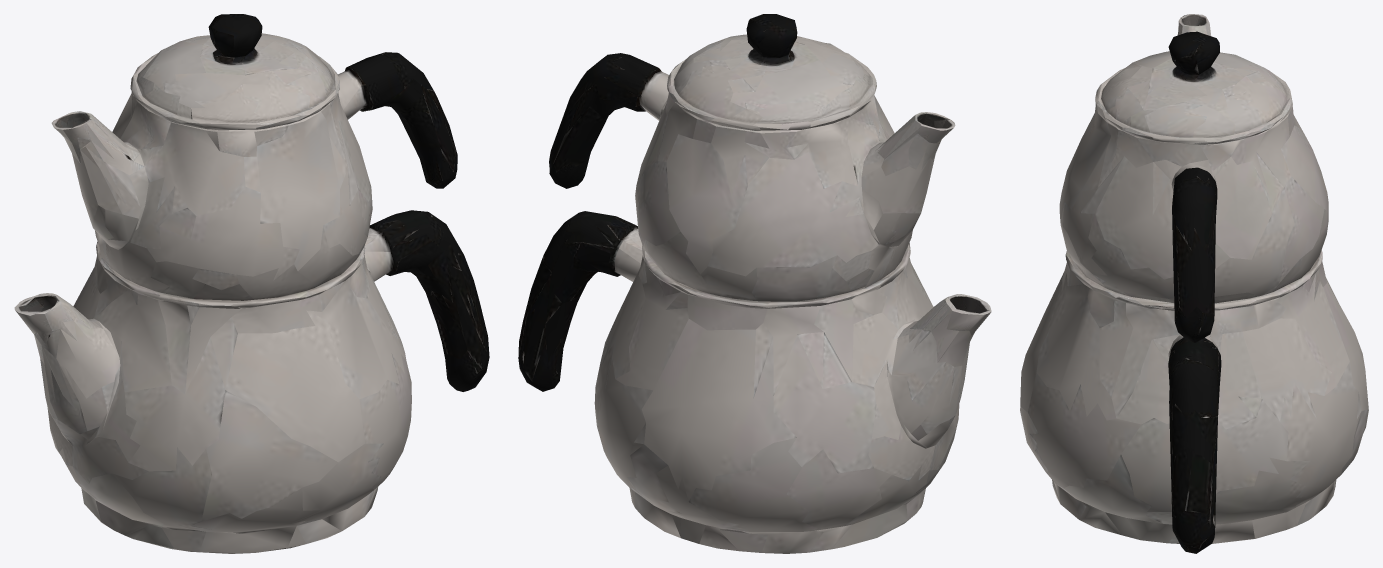
Rendered from caydanlik.glb.
3 views of the same model, side by side, from view 1: azimuth 30°, elevation 25°; view 2: azimuth 150°, elevation 25°; view 3: azimuth 270°, elevation 25° (orthographic). The views are drawn at different scales.
Parts seen in each view (by area): view 1: output_unwrapped; view 2: output_unwrapped; view 3: output_unwrapped.
Part boxes in pixels (x1,y1,x2,y2): output_unwrapped: (14, 14, 489, 553); output_unwrapped: (518, 14, 991, 553); output_unwrapped: (1020, 14, 1368, 553).
Bounding box in the file's own units: 1.9 × 1.83 × 1.28.
Materials: 1 (1 with a texture image).
